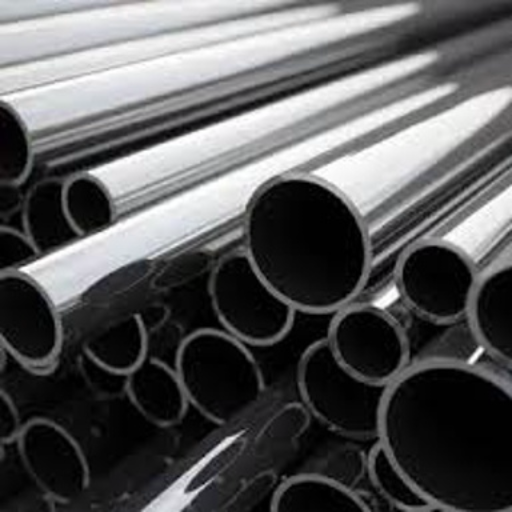Circle: (383, 361, 511, 511), (244, 176, 365, 307), (301, 344, 383, 436), (180, 332, 259, 424), (213, 254, 291, 340), (396, 244, 475, 322), (17, 423, 87, 502), (332, 309, 402, 379), (0, 275, 58, 359), (473, 267, 511, 367), (26, 180, 72, 251), (131, 361, 183, 422), (84, 316, 144, 368), (373, 451, 425, 507), (275, 479, 363, 511), (67, 175, 112, 228), (1, 105, 26, 181), (83, 355, 124, 392), (1, 227, 29, 269), (0, 396, 16, 439)
